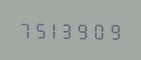five: (32, 19, 46, 39)
nine: (77, 20, 91, 40), (107, 20, 121, 40)
one: (47, 19, 61, 39)
seven: (17, 19, 31, 39)
three: (62, 19, 76, 40)
zero: (92, 20, 106, 40)
